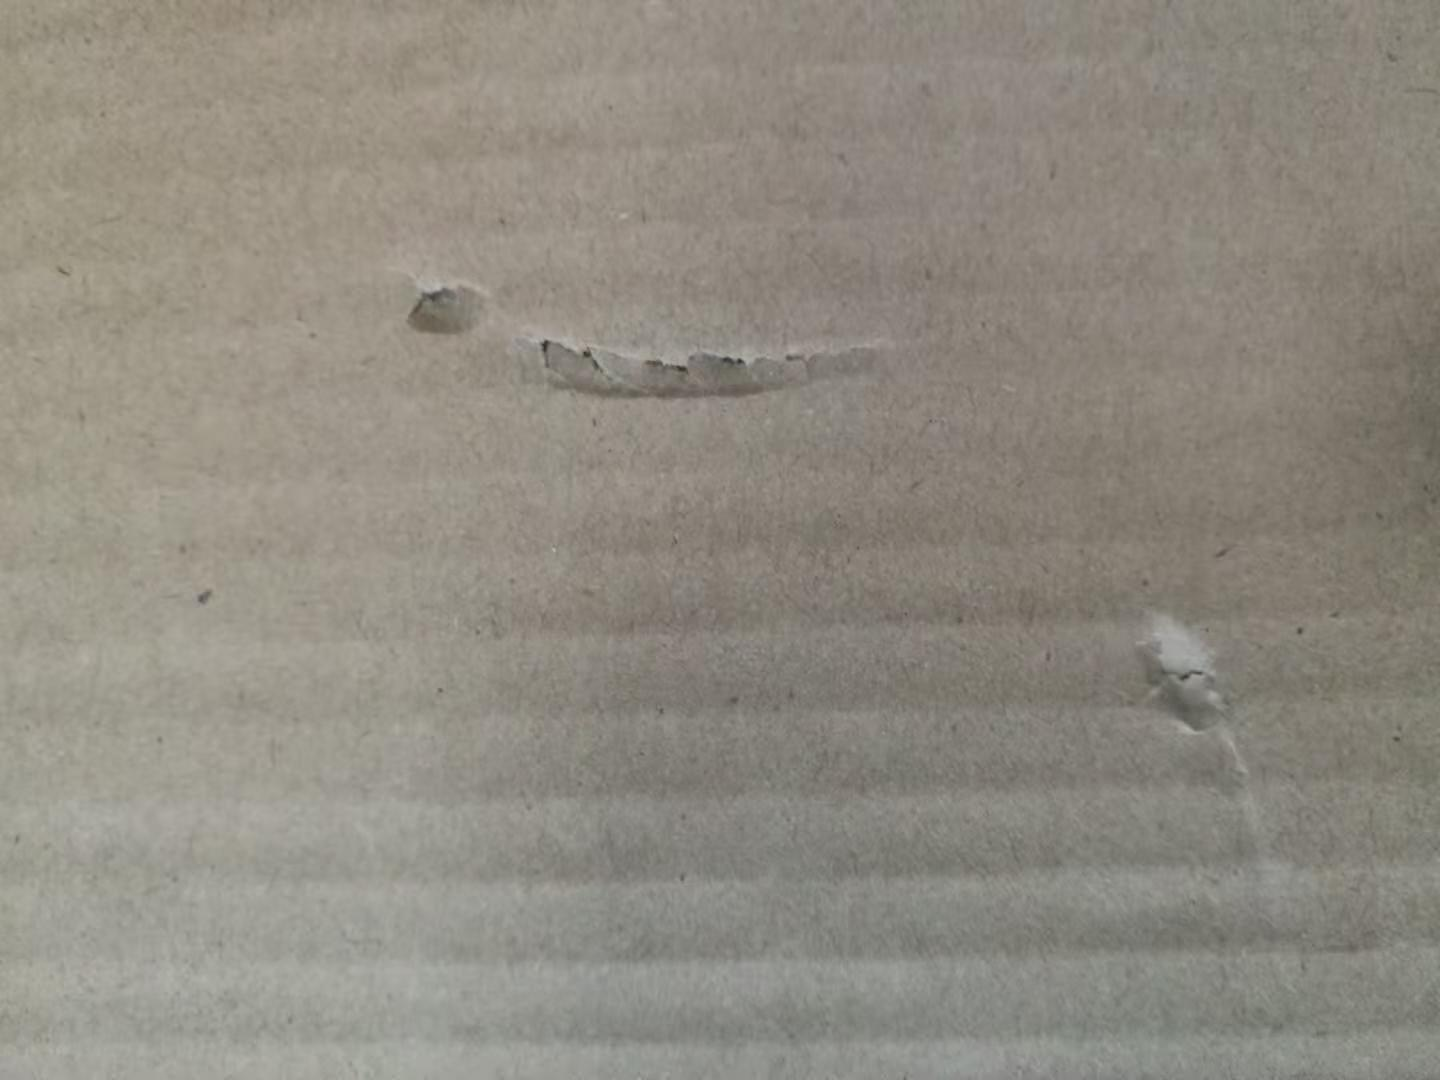defect: (356, 234, 914, 436), (1103, 579, 1318, 909)
